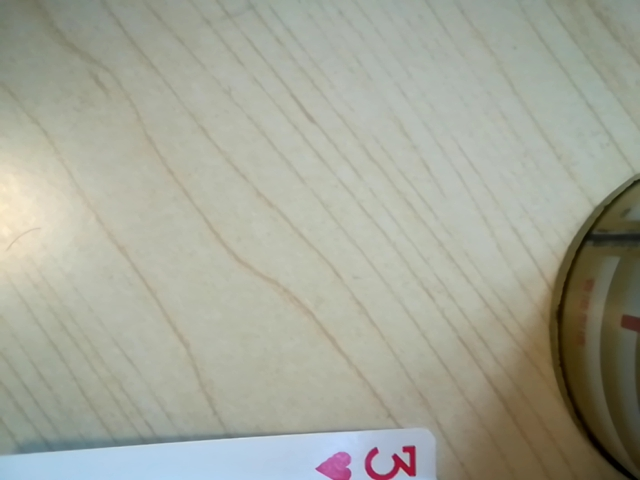hx 3: (336, 437, 429, 480)
